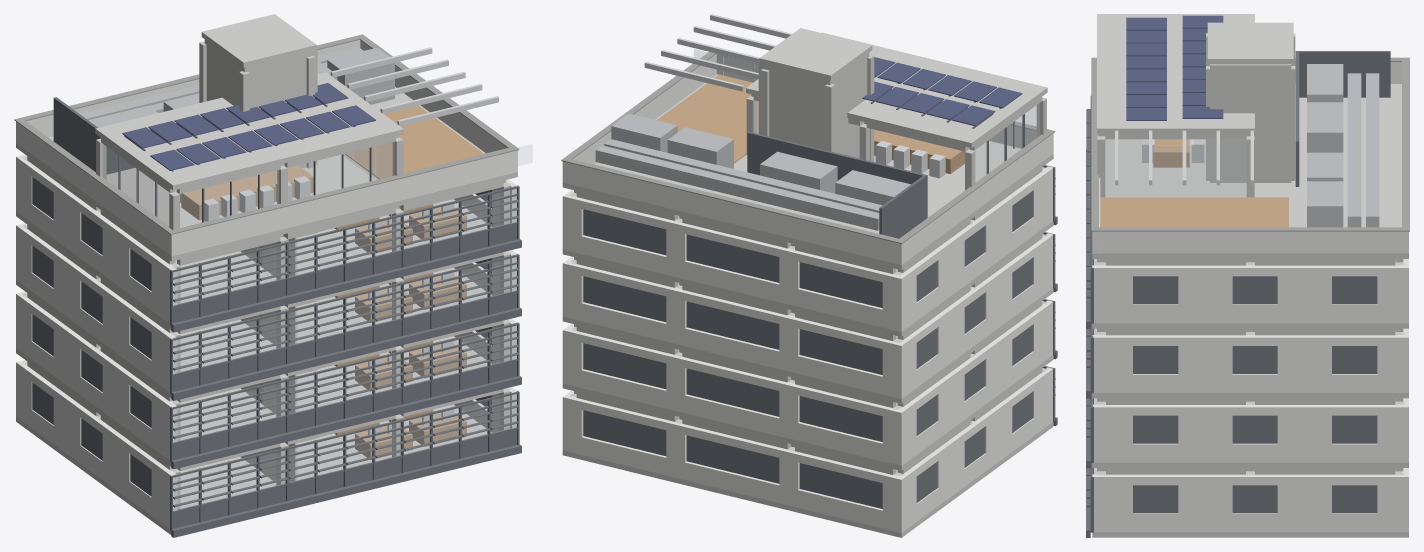
Rendered from newton-from-floor-2.glb.
The picture shows the model from 3 angles, left to right: view 1: azimuth 30°, elevation 25°; view 2: azimuth 150°, elevation 25°; view 3: azimuth 270°, elevation 25°; orthographic projection. The views are drawn at different scales.
Visible parts, largest first — view 1: IFC IfcSlab 7173, IFC IfcWall 18209, IFC IfcSlab 6377, IFC IfcSlab 5657, IFC IfcSlab 6737, IFC IfcSlab 6017, IFC IfcSlab 7097, IFC IfcCovering 43161, IFC IfcSlab 7268, IFC IfcCovering 36125, IFC IfcCovering 33509, IFC IfcCovering 38741 (+75 smaller); view 2: IFC IfcWall 18228, IFC IfcSlab 7173, IFC IfcFlowSegment 44149, IFC IfcWall 7230, IFC IfcCovering 43161, IFC IfcSlab 7268, IFC IfcSlab 7116, IFC IfcWall 18247, IFC IfcWall 44187, IFC IfcFlowSegment 44130, IFC IfcWindow 15551, IFC IfcWindow 16703 (+114 smaller); view 3: IFC IfcWall 7211, IFC IfcSlab 7173, IFC IfcWall 18266, IFC IfcSlab 7116, IFC IfcCovering 43161, IFC IfcSlab 7097, IFC IfcSlab 7268, IFC IfcWall 13658, IFC IfcWall 17114, IFC IfcWall 13696, IFC IfcWall 17152, IFC IfcWall 14810 (+97 smaller).
Part boxes in pixels (x1,y1,x2,y2): IFC IfcSlab 7173: [95, 72, 403, 190]; IFC IfcWall 18209: [168, 150, 517, 256]; IFC IfcSlab 6377: [113, 268, 491, 397]; IFC IfcSlab 5657: [113, 405, 491, 534]; IFC IfcSlab 6737: [113, 199, 491, 329]; IFC IfcSlab 6017: [113, 336, 491, 466]; IFC IfcSlab 7097: [113, 131, 517, 261]; IFC IfcCovering 43161: [345, 105, 483, 179]; IFC IfcSlab 7268: [201, 14, 316, 67]; IFC IfcCovering 36125: [171, 307, 521, 400]; IFC IfcCovering 33509: [171, 376, 521, 469]; IFC IfcCovering 38741: [171, 239, 521, 332]; IFC IfcWall 18228: [562, 161, 904, 264]; IFC IfcSlab 7173: [746, 32, 1047, 147]; IFC IfcFlowSegment 44149: [595, 145, 879, 230]; IFC IfcWall 7230: [759, 64, 829, 149]; IFC IfcCovering 43161: [657, 74, 758, 163]; IFC IfcSlab 7268: [759, 28, 872, 80]; IFC IfcSlab 7116: [562, 162, 957, 269]; IFC IfcWall 18247: [904, 135, 1050, 262]; IFC IfcWall 44187: [747, 131, 927, 218]; IFC IfcFlowSegment 44130: [604, 139, 882, 212]; IFC IfcWindow 15551: [686, 368, 779, 416]; IFC IfcWindow 16703: [686, 301, 779, 349]; IFC IfcWall 7211: [1210, 64, 1291, 182]; IFC IfcSlab 7173: [1097, 14, 1254, 133]; IFC IfcWall 18266: [1098, 231, 1403, 253]; IFC IfcSlab 7116: [1291, 84, 1408, 258]; IFC IfcCovering 43161: [1100, 197, 1288, 227]; IFC IfcSlab 7097: [1092, 139, 1209, 258]; IFC IfcSlab 7268: [1207, 22, 1293, 64]; IFC IfcWall 13658: [1178, 474, 1232, 532]; IFC IfcWall 17114: [1178, 265, 1232, 323]; IFC IfcWall 13696: [1277, 474, 1331, 532]; IFC IfcWall 17152: [1277, 265, 1331, 323]; IFC IfcWall 14810: [1178, 405, 1232, 462].
Bounding box in the file's own units: 18.99 × 19.85 × 14.33.
